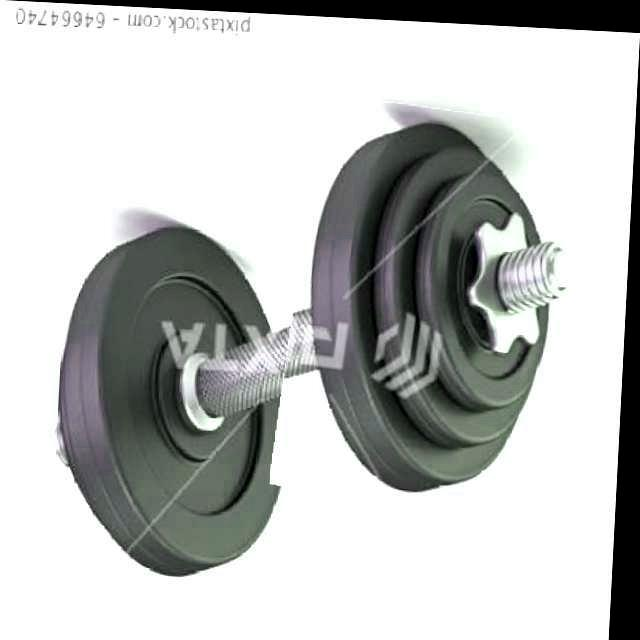barbell: (282, 95, 600, 512)
